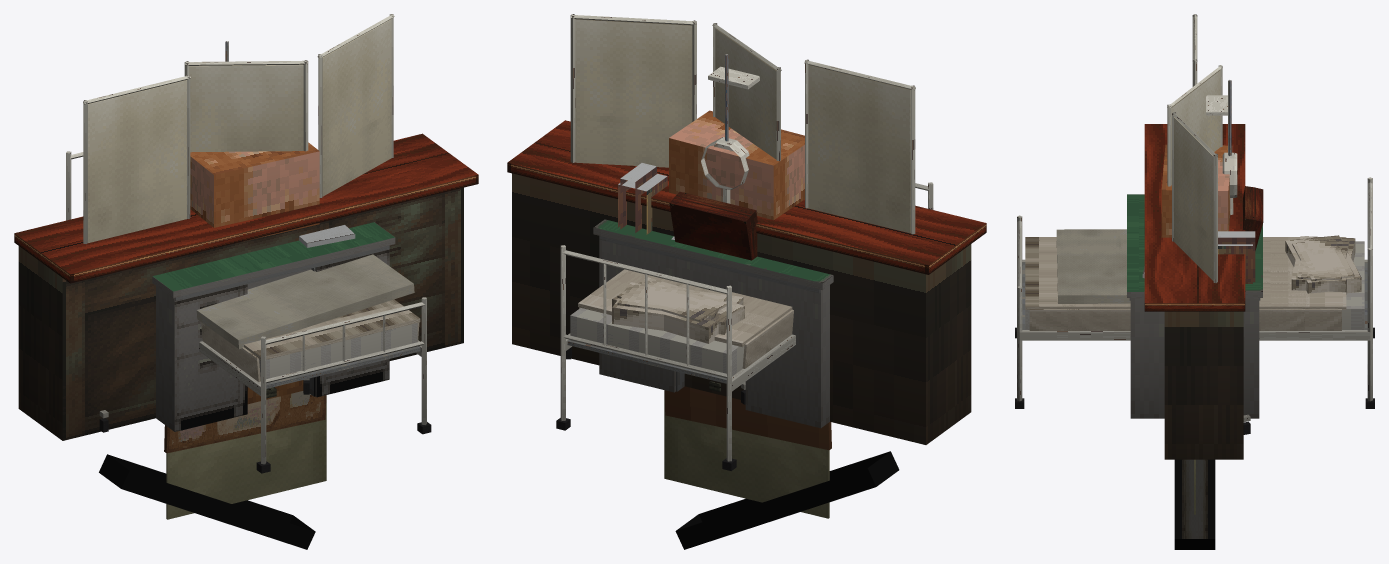
File: props_1f_near.glb
3 views of the same model, side by side, from view 1: azimuth 30°, elevation 25°; view 2: azimuth 150°, elevation 25°; view 3: azimuth 270°, elevation 25° (orthographic). The views are drawn at different scales.
Parts seen in each view (by area): view 1: prop_table-counter-2, prop_screen-0, prop_staffdesk-2, prop_bed-0, prop_bed-1, prop_stained_wall-1, prop_cardboard_stack-2, prop_light_fixture-1, prop_notice_board-1, prop_staffdesk-7; view 2: prop_table-counter-2, prop_screen-0, prop_staffdesk-2, prop_bed-0, prop_stained_wall-1, prop_cardboard_stack-2, prop_bed-1, prop_light_fixture-1, prop_notice_board-1, prop_officechair-2, prop_staffdesk-7, prop_scale (+1 smaller); view 3: prop_table-counter-2, prop_bed-0, prop_bed-1, prop_screen-0, prop_staffdesk-2, prop_light_fixture-1, prop_cardboard_stack-2, prop_scale, prop_staffdesk-7, prop_officechair-1, prop_officechair-2.
Part boxes in pixels (box(x1,y1,x2,y2)): prop_table-counter-2: box(14, 133, 478, 440); prop_screen-0: box(83, 14, 394, 432); prop_staffdesk-2: box(152, 222, 395, 431); prop_bed-0: box(66, 151, 431, 473); prop_bed-1: box(196, 254, 414, 366); prop_stained_wall-1: box(166, 395, 326, 519); prop_cardboard_stack-2: box(190, 142, 319, 241); prop_light_fixture-1: box(99, 454, 315, 549); prop_notice_board-1: box(164, 391, 326, 453); prop_staffdesk-7: box(175, 245, 389, 396); prop_table-counter-2: box(507, 120, 986, 444); prop_screen-0: box(566, 14, 915, 404); prop_staffdesk-2: box(593, 163, 833, 428); prop_bed-0: box(556, 182, 933, 470); prop_stained_wall-1: box(664, 390, 829, 518); prop_cardboard_stack-2: box(669, 110, 804, 220); prop_bed-1: box(578, 269, 793, 368); prop_light_fixture-1: box(675, 451, 899, 549); prop_notice_board-1: box(664, 386, 831, 450); prop_officechair-2: box(669, 196, 754, 260); prop_staffdesk-7: box(599, 173, 820, 391); prop_scale: box(701, 54, 759, 203); prop_table-counter-2: box(1144, 124, 1245, 459); prop_bed-0: box(1015, 177, 1374, 408); prop_bed-1: box(1056, 229, 1361, 330); prop_screen-0: box(1167, 14, 1250, 434); prop_staffdesk-2: box(1127, 194, 1262, 418); prop_light_fixture-1: box(1174, 459, 1215, 549); prop_cardboard_stack-2: box(1161, 144, 1232, 237); prop_scale: box(1206, 80, 1237, 214); prop_staffdesk-7: box(1129, 244, 1260, 300); prop_officechair-1: box(1243, 186, 1255, 231); prop_officechair-2: box(1250, 187, 1263, 250).
Size of the model in its own units: 2.31 by 2.69 by 1.96.
34 materials, 34 textured.
